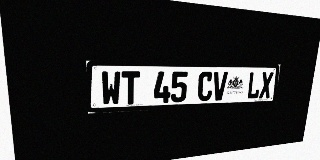4: (154, 71, 171, 103)
5: (171, 71, 188, 103)
C: (197, 71, 214, 101)
L: (246, 72, 262, 99)
T: (122, 71, 140, 105)
V: (212, 72, 228, 101)
W: (101, 71, 121, 106)
X: (259, 72, 274, 98)
